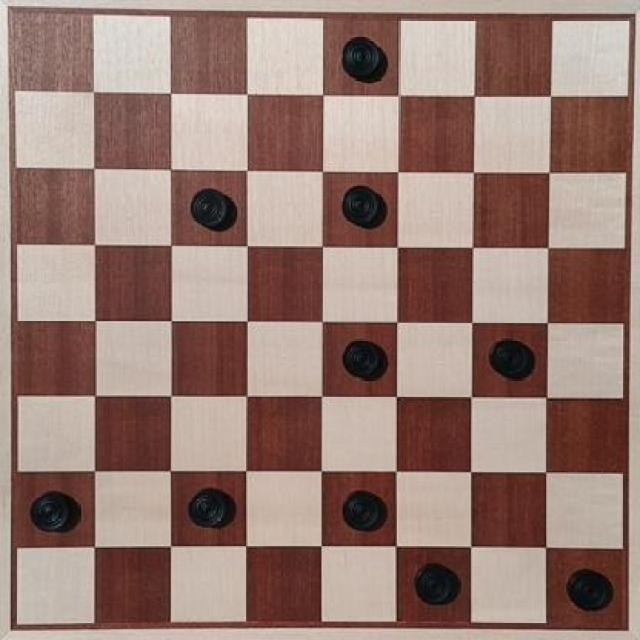BOARD: (9, 9, 630, 629)
black: (476, 328, 548, 396), (404, 548, 472, 612), (329, 472, 390, 543), (178, 174, 238, 236), (334, 24, 390, 90), (175, 474, 236, 534), (330, 324, 388, 383), (23, 477, 78, 538), (331, 176, 389, 232), (561, 564, 617, 618)
